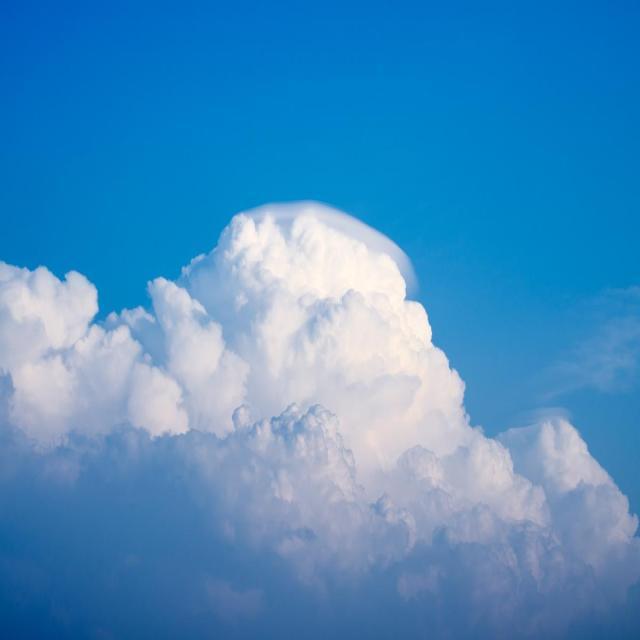cumulus: (0, 198, 627, 593)
